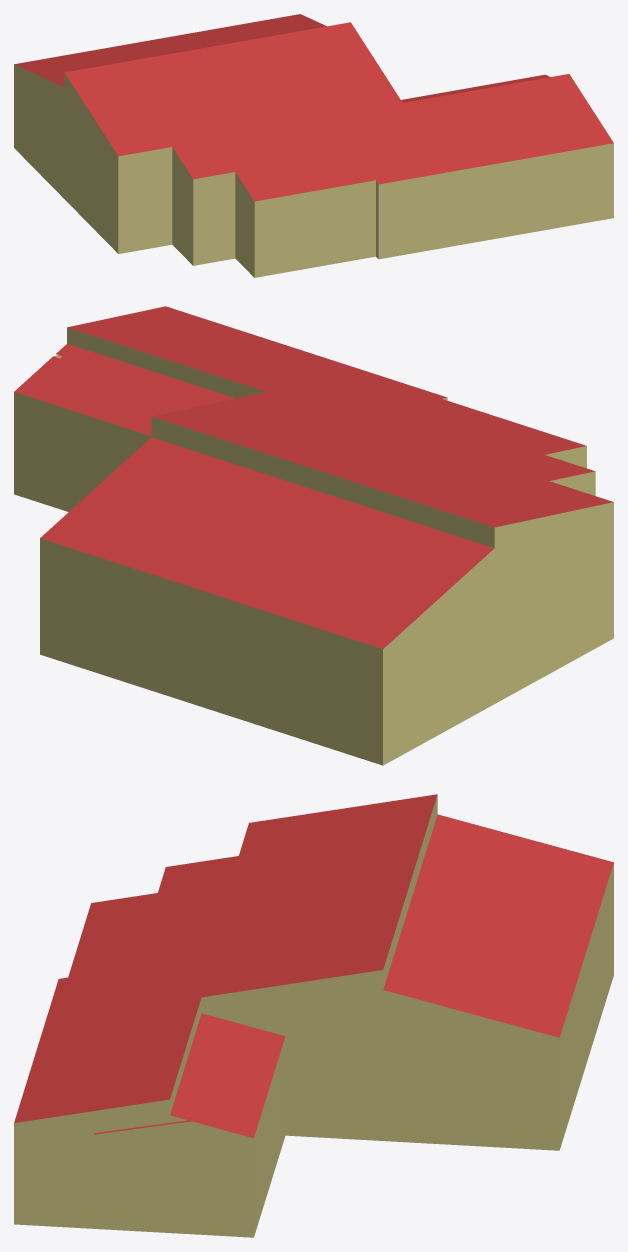
The picture shows the model from 3 angles, top to bottom: view 1: azimuth 30°, elevation 25°; view 2: azimuth 150°, elevation 25°; view 3: azimuth 270°, elevation 25°; orthographic projection. The views are drawn at different scales.
Bounding box in the file's own units: 39.22 × 35.18 × 11.08.
